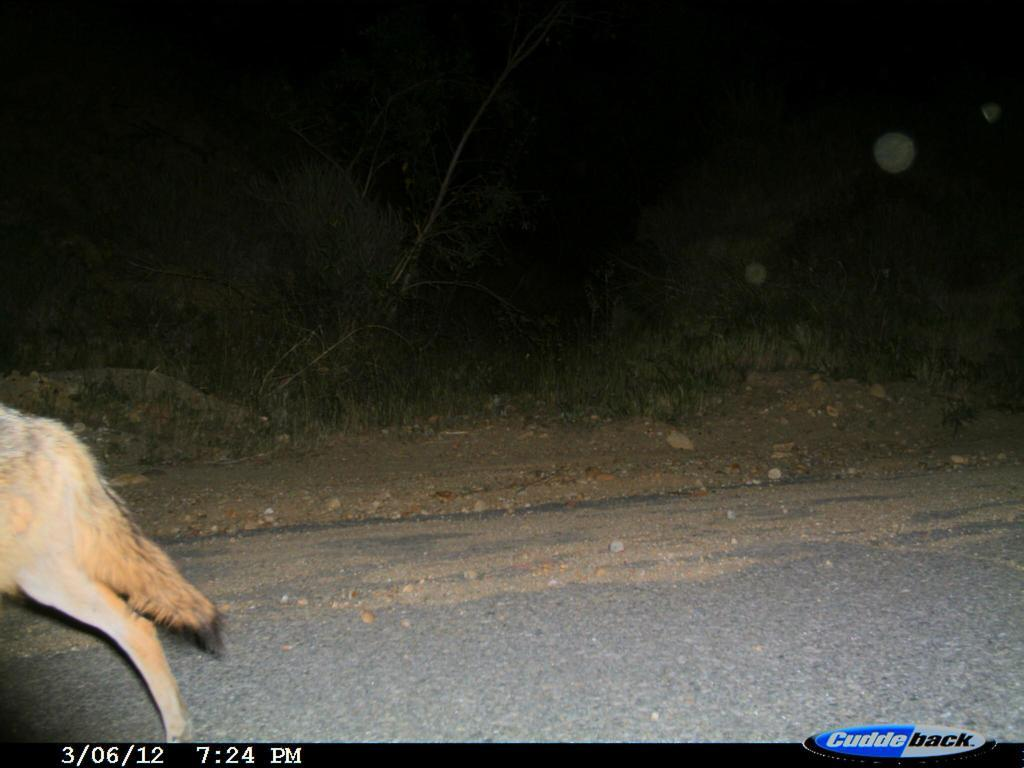coyote: (1, 400, 232, 747)
